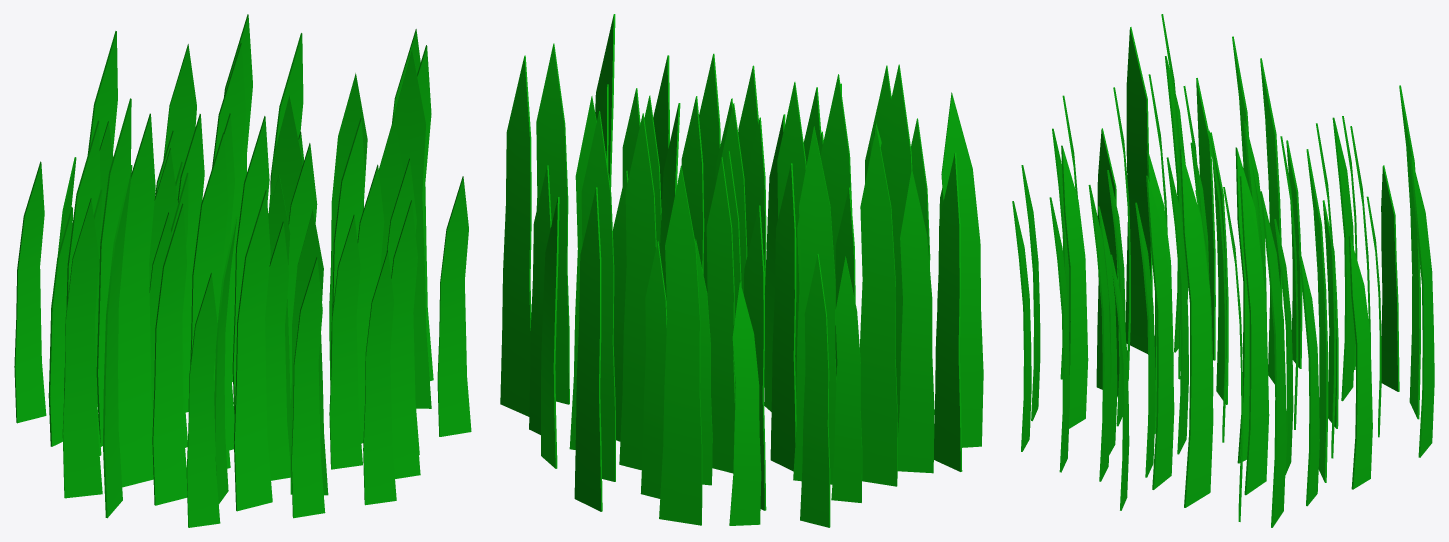
The model's file is Tall_grass.fbx.
3 views of the same model, side by side, from view 1: azimuth 30°, elevation 25°; view 2: azimuth 150°, elevation 25°; view 3: azimuth 270°, elevation 25° (orthographic). The views are drawn at different scales.
Parts seen in each view (by area): view 1: mesh_tall_grass; view 2: mesh_tall_grass; view 3: mesh_tall_grass.
Part boxes in pixels (left/top/right/bottom): mesh_tall_grass: left=14, top=14, right=471, bottom=527; mesh_tall_grass: left=500, top=14, right=983, bottom=527; mesh_tall_grass: left=1012, top=14, right=1434, bottom=527.
Size of the model in its own units: 2.5 by 2.19 by 2.34.
